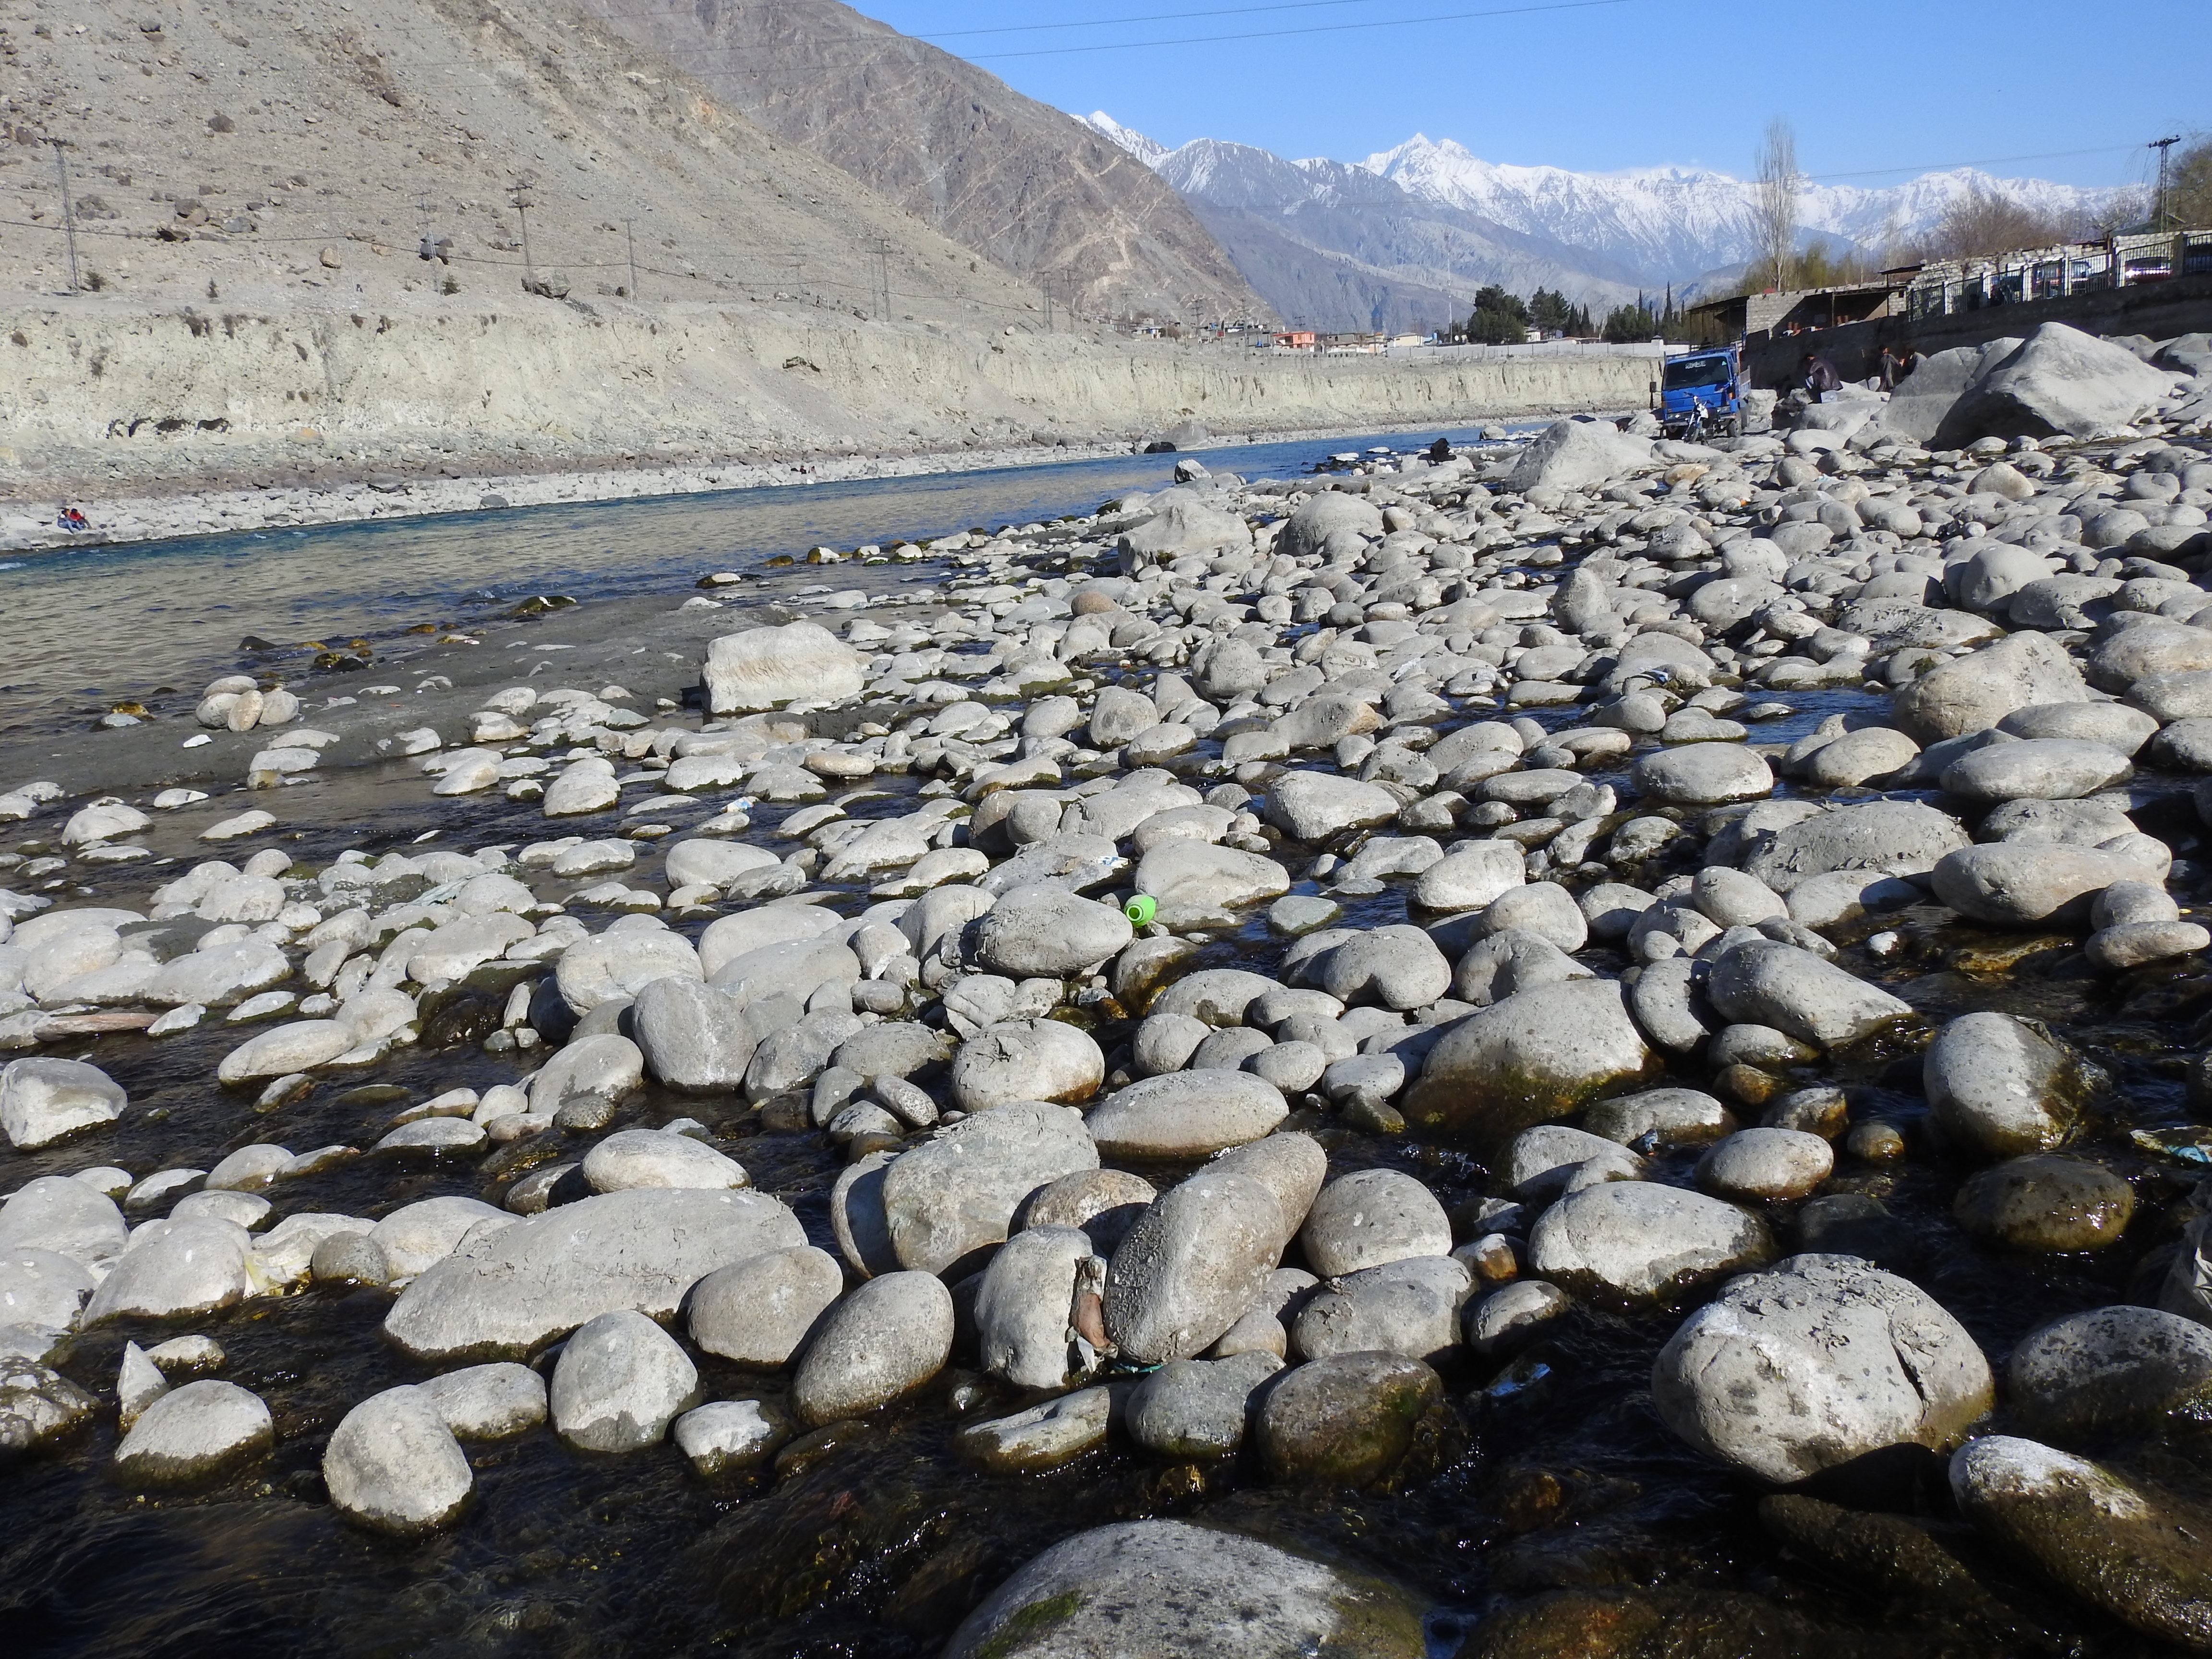Plastic Bottle: (1632, 1129, 1676, 1154), (1123, 894, 1155, 927)
